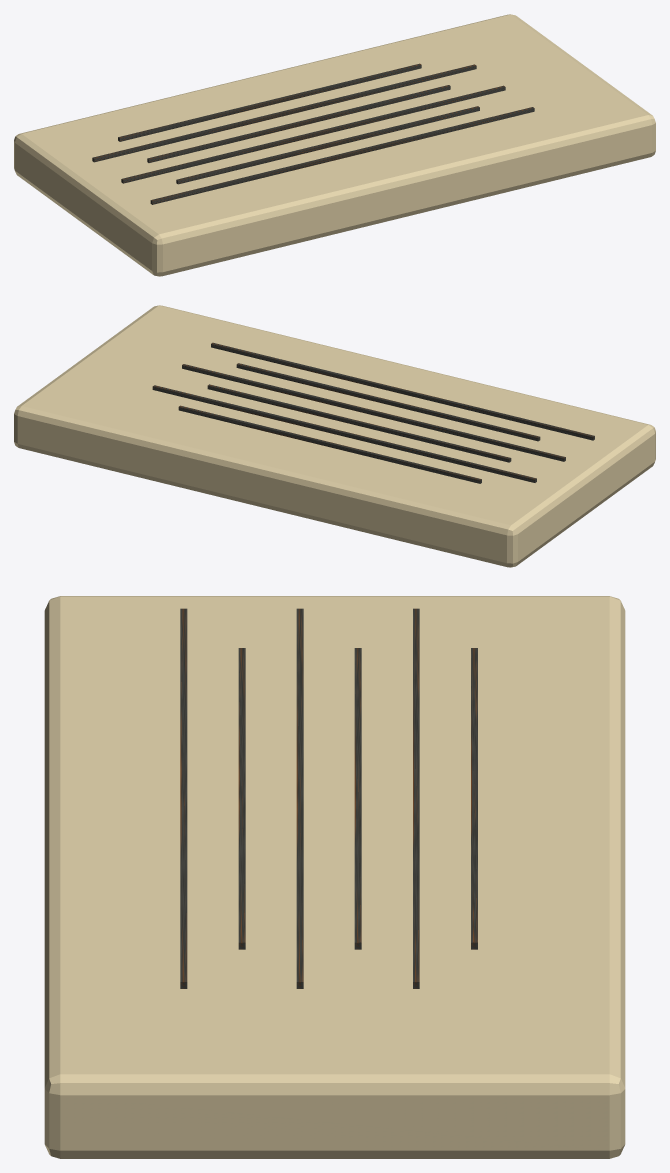
File: tiket.glb
3 renders of one model, top to bottom at view 1: azimuth 30°, elevation 25°; view 2: azimuth 150°, elevation 25°; view 3: azimuth 270°, elevation 25°, orthographic. The views are drawn at different scales.
Parts seen in each view (by area): view 1: Lembar, Garis, Garis.002, Garis.004, Garis.001, Garis.003, Garis.005; view 2: Lembar, Garis, Garis.004, Garis.002, Garis.001, Garis.003, Garis.005; view 3: Lembar, Garis, Garis.002, Garis.004, Garis.001, Garis.003, Garis.005.
Boxes of the visible parts, bbox=[...] form: Lembar: bbox=[14, 14, 655, 276]; Garis: bbox=[150, 107, 534, 204]; Garis.002: bbox=[121, 85, 505, 183]; Garis.004: bbox=[92, 64, 476, 162]; Garis.001: bbox=[176, 106, 479, 184]; Garis.003: bbox=[147, 85, 450, 162]; Garis.005: bbox=[118, 63, 421, 141]; Lembar: bbox=[14, 305, 655, 567]; Garis: bbox=[211, 342, 594, 440]; Garis.004: bbox=[152, 385, 536, 482]; Garis.002: bbox=[182, 364, 565, 461]; Garis.001: bbox=[236, 363, 540, 441]; Garis.003: bbox=[207, 384, 511, 462]; Garis.005: bbox=[178, 405, 481, 483]; Lembar: bbox=[44, 596, 625, 1158]; Garis: bbox=[180, 608, 187, 988]; Garis.002: bbox=[296, 608, 303, 988]; Garis.004: bbox=[413, 608, 419, 988]; Garis.001: bbox=[238, 648, 245, 949]; Garis.003: bbox=[354, 648, 361, 949]; Garis.005: bbox=[471, 648, 477, 949].
Bounding box in the file's own units: 0.15 × 0.0135 × 0.075.
2 materials, 1 textured.
